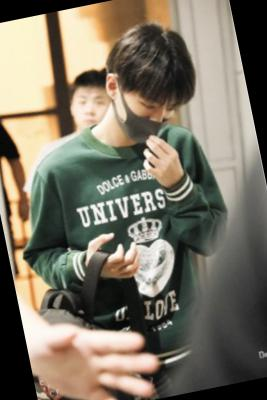with_mask: (118, 83, 186, 147)
without_mask: (70, 89, 117, 135)
